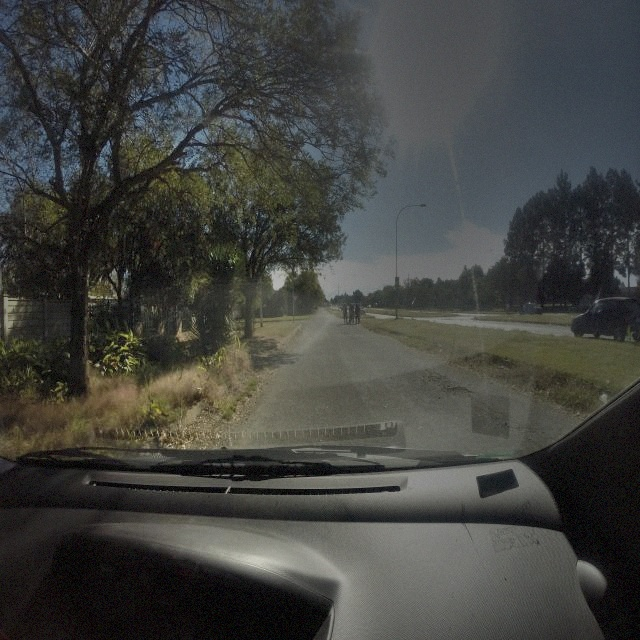pothole: (442, 384, 472, 398), (428, 372, 443, 385)
